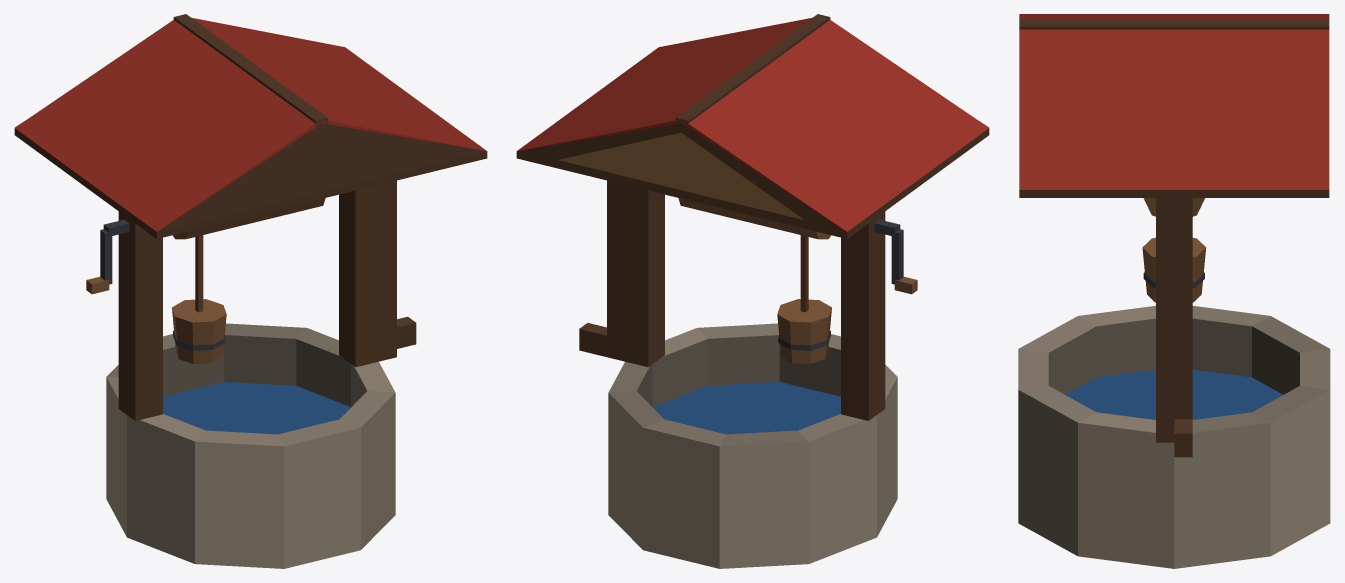
Rendered from Decor_WesternSaloon_Well.fbx.
3 renders of one model, left to right at view 1: azimuth 30°, elevation 25°; view 2: azimuth 150°, elevation 25°; view 3: azimuth 270°, elevation 25°, orthographic. The views are drawn at different scales.
Visible parts, largest first — view 1: Well_Body; view 2: Well_Body; view 3: Well_Body.
Boxes of the visible parts, x1,y1,x2,y2 form: Well_Body: (14, 14, 487, 568); Well_Body: (516, 14, 989, 568); Well_Body: (1018, 14, 1330, 568).
Size of the model in its own units: 9.6 by 12.2 by 7.2.
